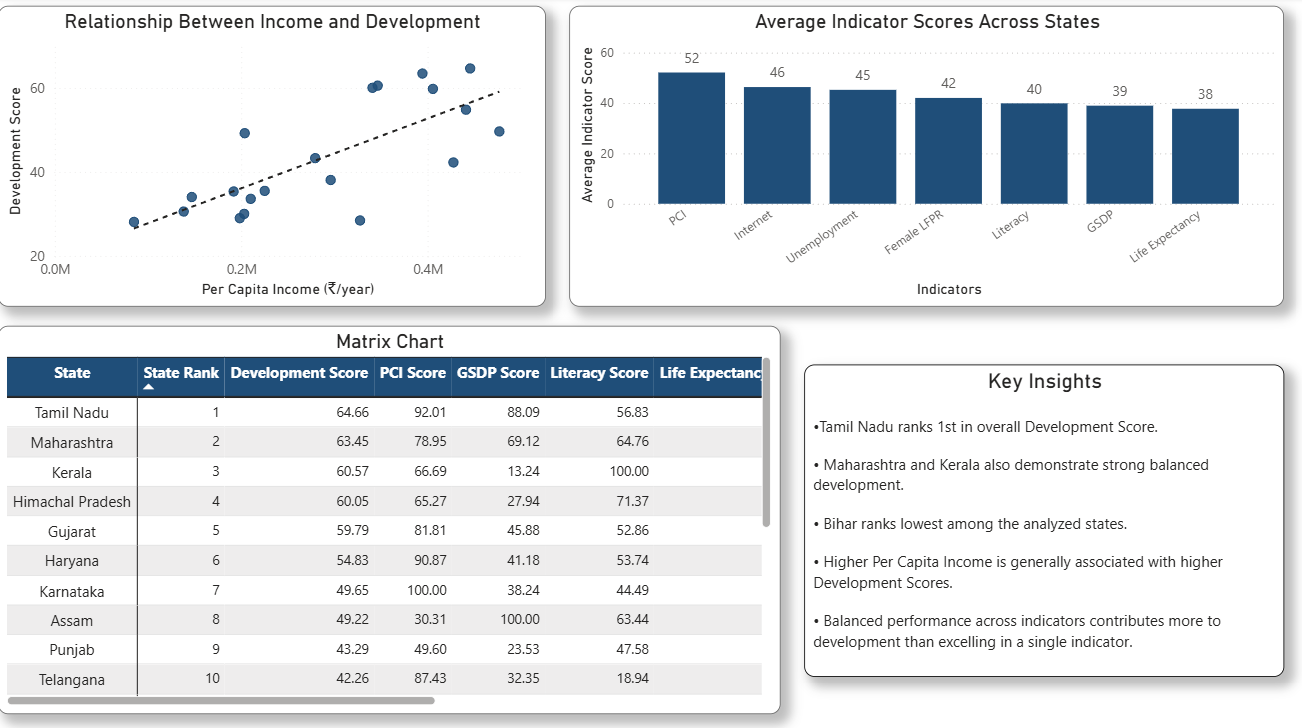

The dashboard page shown, as its layout file describes it:
{"tool":"powerbi","page":{"name":"Development Drivers & State Scorecard","canvas":[1280,720],"ordinal":1},"visuals":[{"type":"scatterChart","title":"Relationship Between Income and Development","fields":{"X":["Master_Data.Per Capita Income (₹/year)"],"Y":["Master_Data.Development Score"]},"box":[0,8.6,535.6,294.7],"z":0},{"type":"pivotTable","title":"Matrix Chart","fields":{"Rows":["Master_Data.State"],"Values":["Master_Data.State Rank (M)","Master_Data.Development Score (M)","Master_Data.PCI Score M","Master_Data.GSDP Score (M)","Master_Data.Literacy Score (M)","Master_Data.Life Expectancy Score (M)","Master_Data.Female LFPR Score (M)","Master_Data.Internet Score (M)","Master_Data.Unemployment Score (M)"]},"box":[0,321.6,765.5,380.3],"z":1000},{"type":"clusteredColumnChart","title":"Average Indicator Scores Across States","fields":{"Category":["Indicators.Indicators"],"Y":["Indicators.Average Indicator Score"]},"box":[558.8,8.6,699.5,294.7],"z":2000},{"type":"textbox","title":"Key Insights","box":[788.7,359.5,469.6,305.7],"z":3000}]}

Visuals, with their boxes in screenshot pixels (x1, y1, x2, y2), scaled from the page's 1280x720 canvas onto the 1302x728 screenshot:
"Relationship Between Income and Development" scatterChart: select_region(0, 9, 545, 307)
"Matrix Chart" pivotTable: select_region(0, 325, 779, 710)
"Average Indicator Scores Across States" clusteredColumnChart: select_region(568, 9, 1280, 307)
"Key Insights" textbox: select_region(802, 363, 1280, 673)
